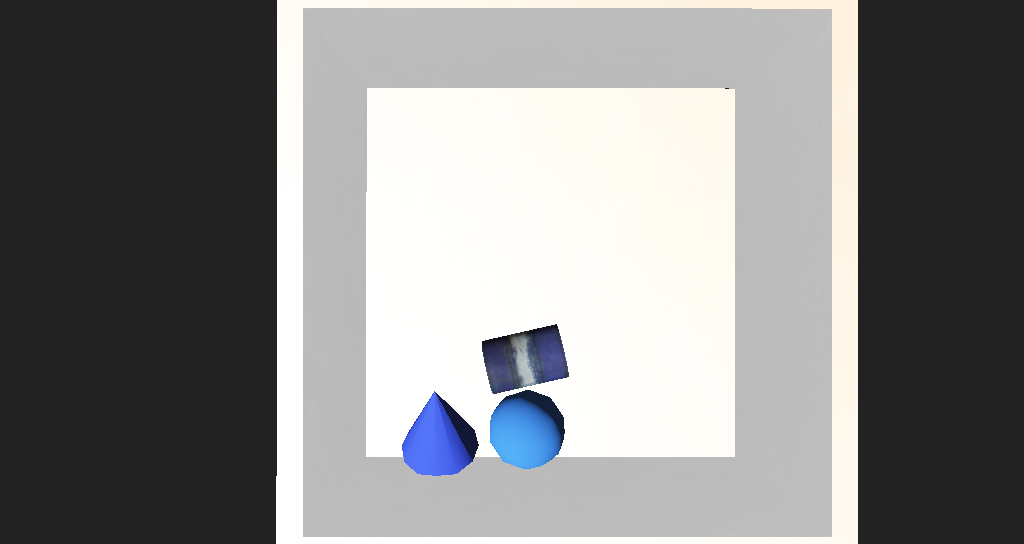cone: (448, 298, 522, 341)
cylinder: (374, 315, 448, 391)
sphere: (451, 334, 519, 382)
